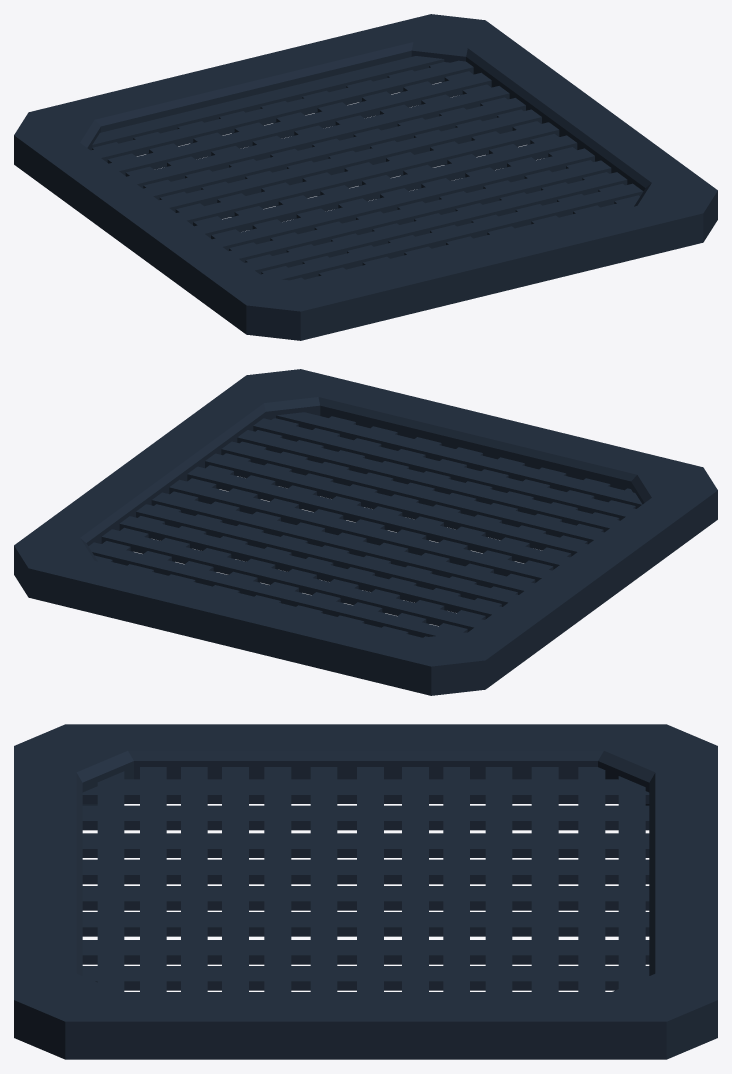
File: Metal Mesh 01.FBX
3 renders of one model, top to bottom at view 1: azimuth 30°, elevation 25°; view 2: azimuth 150°, elevation 25°; view 3: azimuth 270°, elevation 25°, orthographic. The views are drawn at different scales.
Visible parts, largest first — view 1: Metal Mesh 01; view 2: Metal Mesh 01; view 3: Metal Mesh 01.
Part boxes in pixels (bbox=[...]): Metal Mesh 01: bbox=[14, 14, 717, 340]; Metal Mesh 01: bbox=[14, 369, 717, 695]; Metal Mesh 01: bbox=[14, 724, 717, 1059].
Size of the model in its own units: 800 by 47.56 by 800.
Materials: 1 (1 with a texture image).
